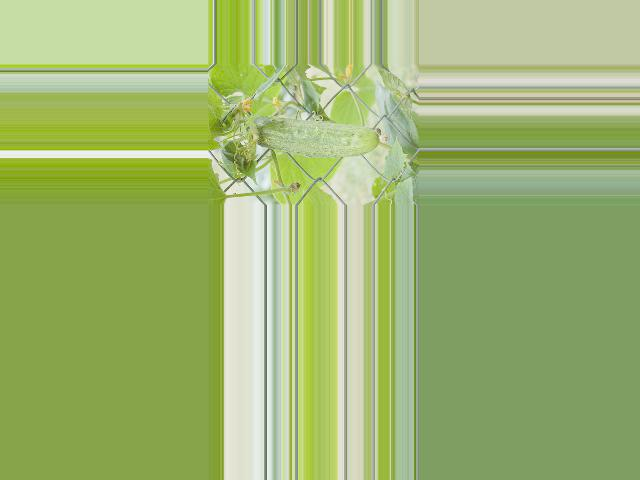cucumber: (247, 117, 387, 157)
